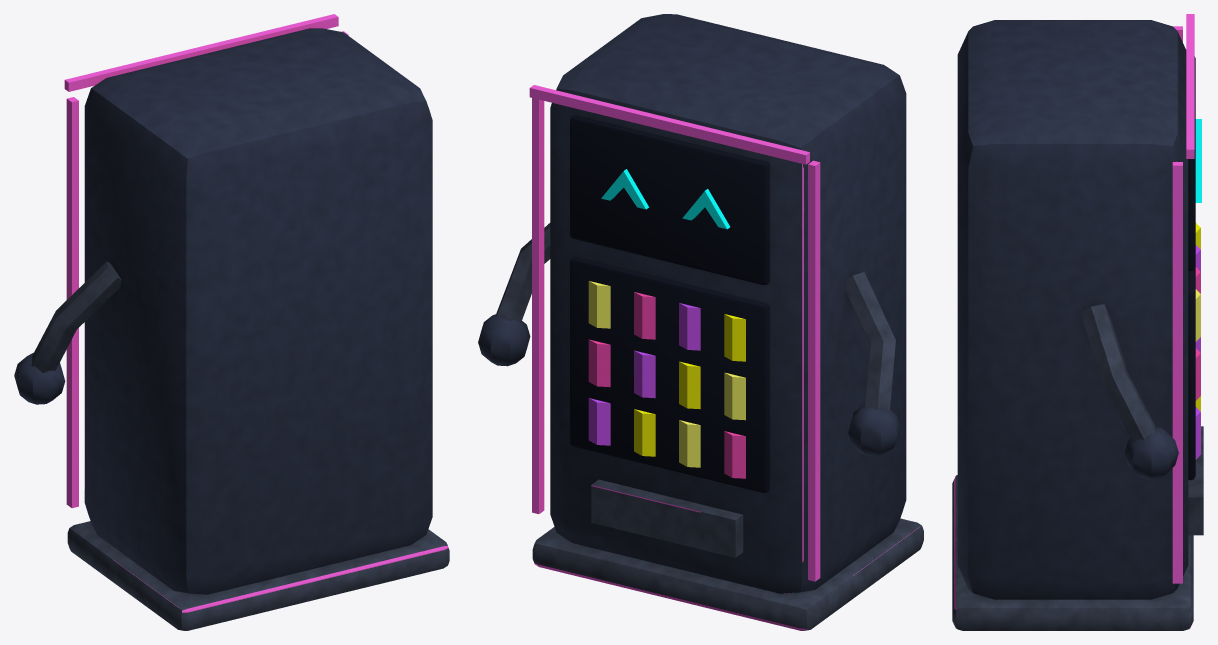
The model's file is vending_bot.fbx.
3 renders of one model, left to right at view 1: azimuth 30°, elevation 25°; view 2: azimuth 150°, elevation 25°; view 3: azimuth 270°, elevation 25°, orthographic. The views are drawn at different scales.
Visible parts, largest first — view 1: vending_bot, vending_bot_glow; view 2: vending_bot, vending_bot_glow; view 3: vending_bot, vending_bot_glow.
Part boxes in pixels (x1,y1,x2,y2): vending_bot: [14, 28, 449, 630]; vending_bot_glow: [64, 14, 348, 508]; vending_bot: [478, 14, 923, 630]; vending_bot_glow: [529, 85, 820, 581]; vending_bot: [952, 20, 1203, 630]; vending_bot_glow: [1172, 14, 1194, 583].
Size of the model in its own units: 462 by 520 by 240.
Materials: 1 (1 with a texture image).
